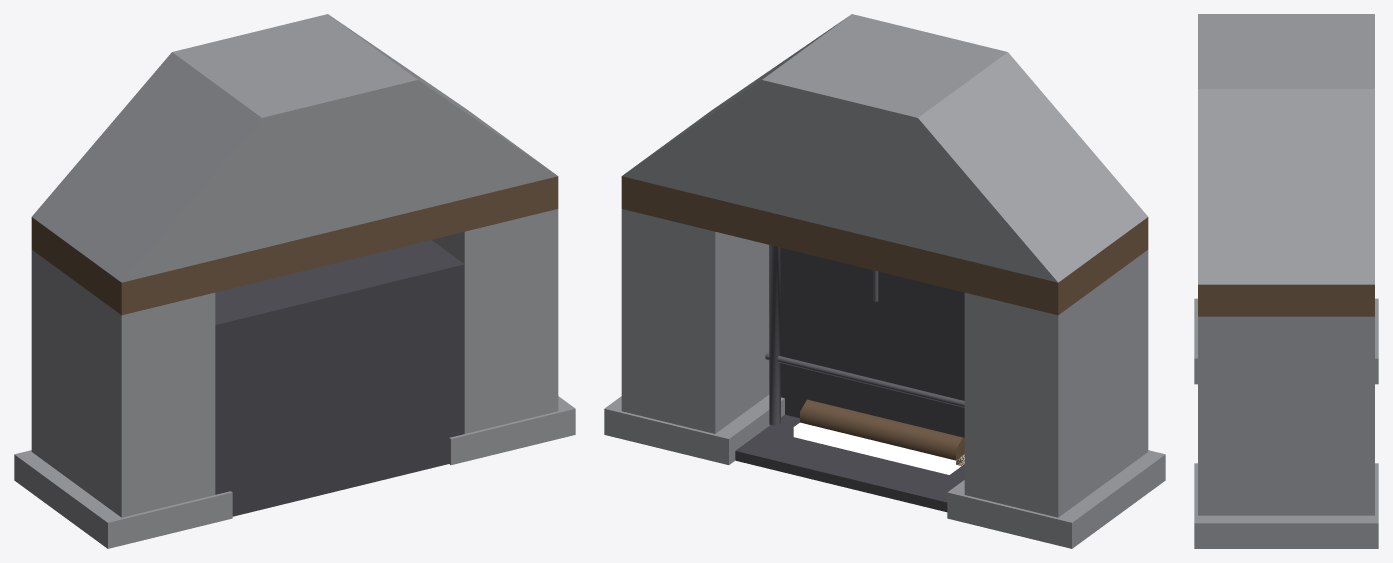
File: KitchenHearth.fbx
The picture shows the model from 3 angles, left to right: view 1: azimuth 30°, elevation 25°; view 2: azimuth 150°, elevation 25°; view 3: azimuth 270°, elevation 25°; orthographic projection.
Parts seen in each view (by area): view 1: KitchenHearth; view 2: KitchenHearth; view 3: KitchenHearth.
Boxes of the visible parts, x1,y1,x2,y2 form: KitchenHearth: (14,14,575,548); KitchenHearth: (604,14,1165,548); KitchenHearth: (1194,14,1378,548).
Size of the model in its own units: 3 by 2.4 by 1.04.
